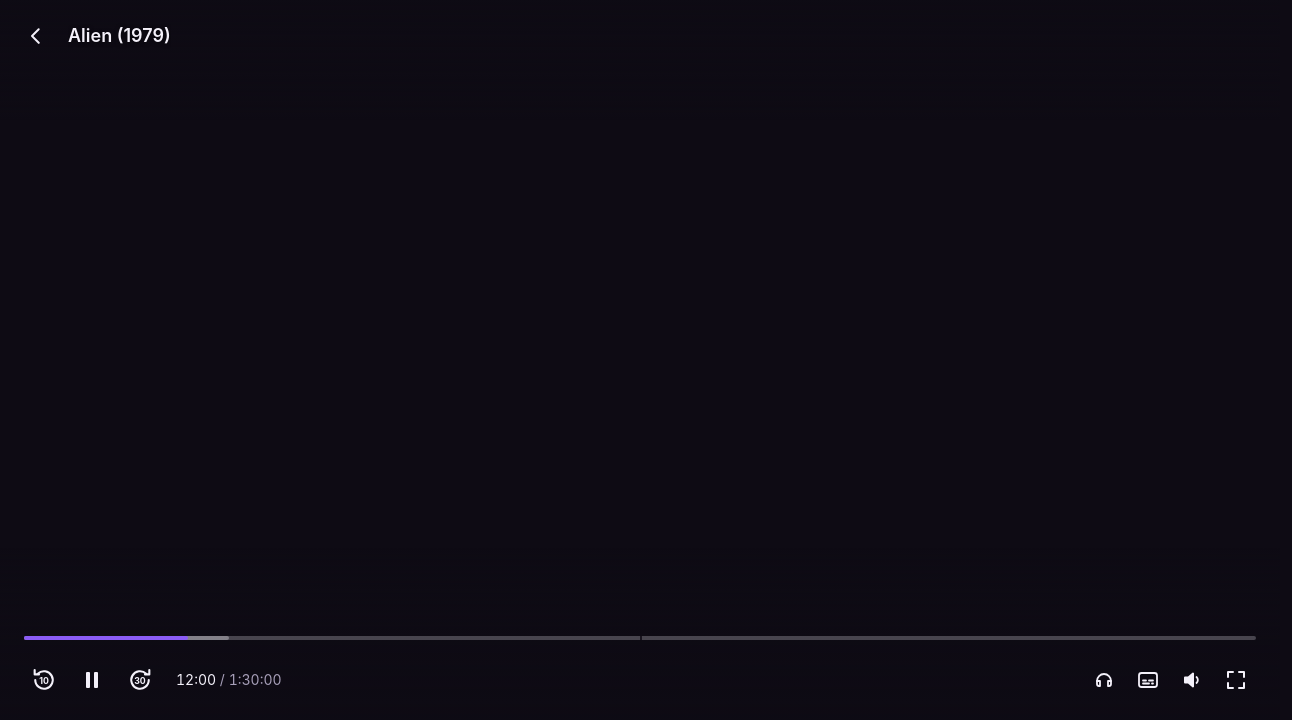
PlayerOverlay track menus › lists the audio tracks by title and language, marks the playing one and switches on a pick
Click the button named "Audio". click: (1104, 680)
box: [1084,660,1124,700]
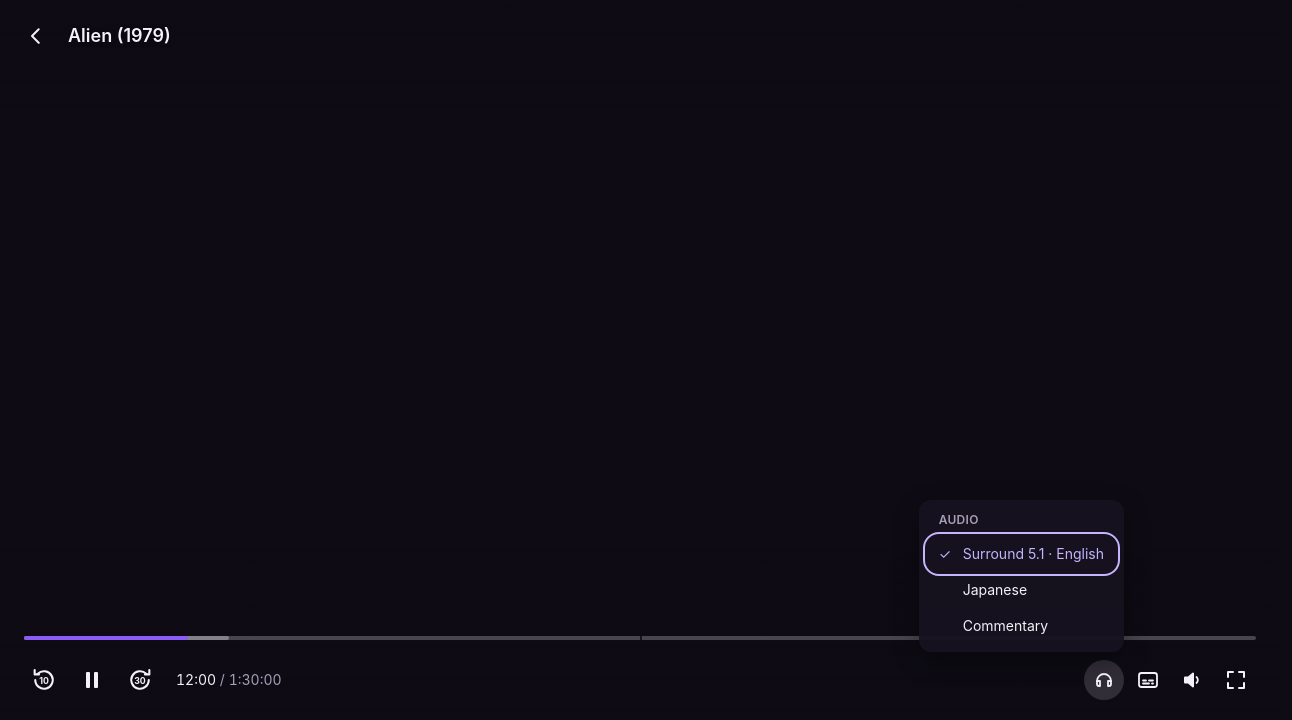
Now the button named "Audio" is expanded, box [1084,660,1124,700]
Click the menu item "Japanese". click: (1021, 590)
box: [927,572,1116,608]
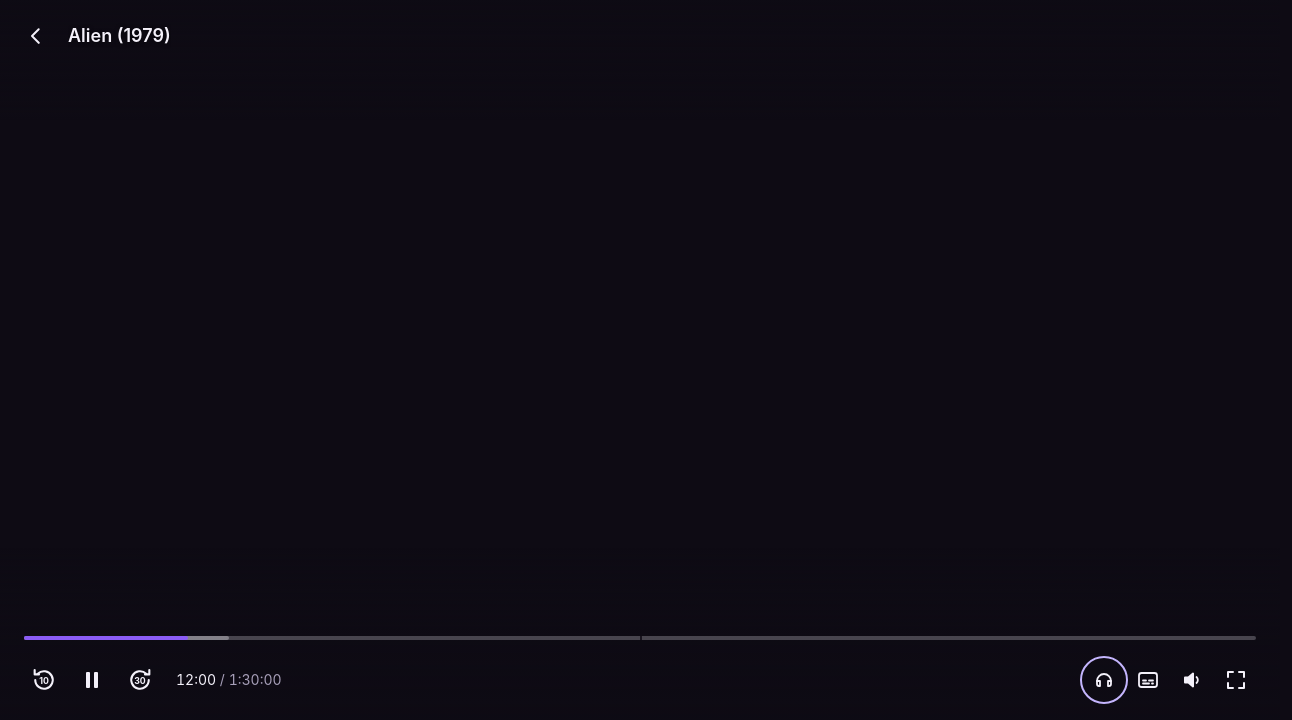
Now the menu is gone
